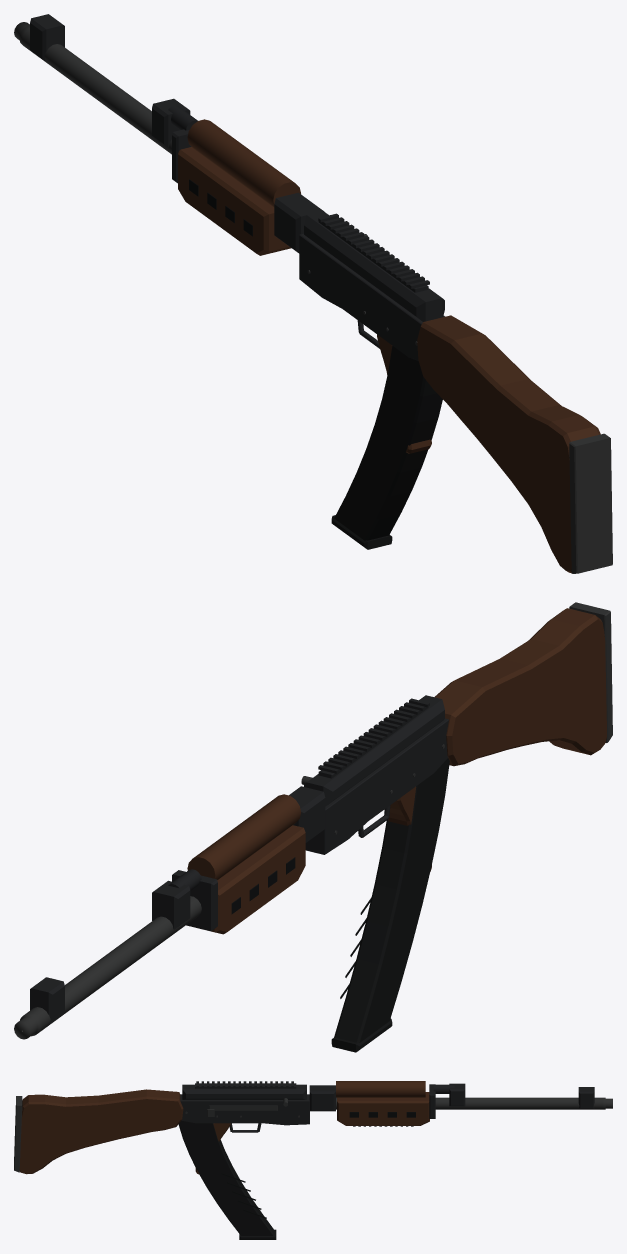
Rendered from weapon-27-CLinhTei.glb.
3 views of the same model, one above another, from view 1: azimuth 30°, elevation 25°; view 2: azimuth 150°, elevation 25°; view 3: azimuth 270°, elevation 25° (orthographic). The views are drawn at different scales.
Visible parts, largest first — view 1: salient_weapon_body, salient_weapon_magazine; view 2: salient_weapon_body, salient_weapon_magazine; view 3: salient_weapon_body, salient_weapon_magazine.
Part boxes in pixels (bbox=[...]): salient_weapon_body: bbox=[14, 14, 612, 573]; salient_weapon_magazine: bbox=[331, 346, 442, 549]; salient_weapon_body: bbox=[14, 602, 612, 1039]; salient_weapon_magazine: bbox=[331, 758, 449, 1052]; salient_weapon_body: bbox=[14, 1081, 612, 1174]; salient_weapon_magazine: bbox=[178, 1120, 276, 1239].
Size of the model in its own units: 0.0606 by 0.3241 by 1.13.
